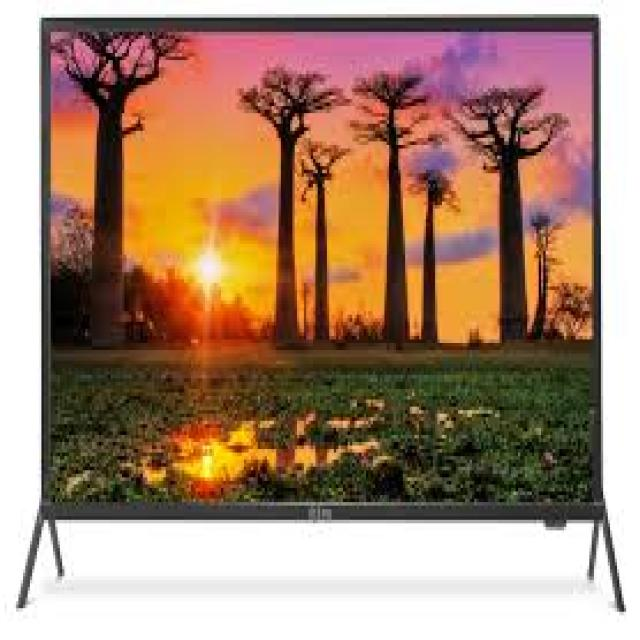tv: (33, 10, 621, 609)
